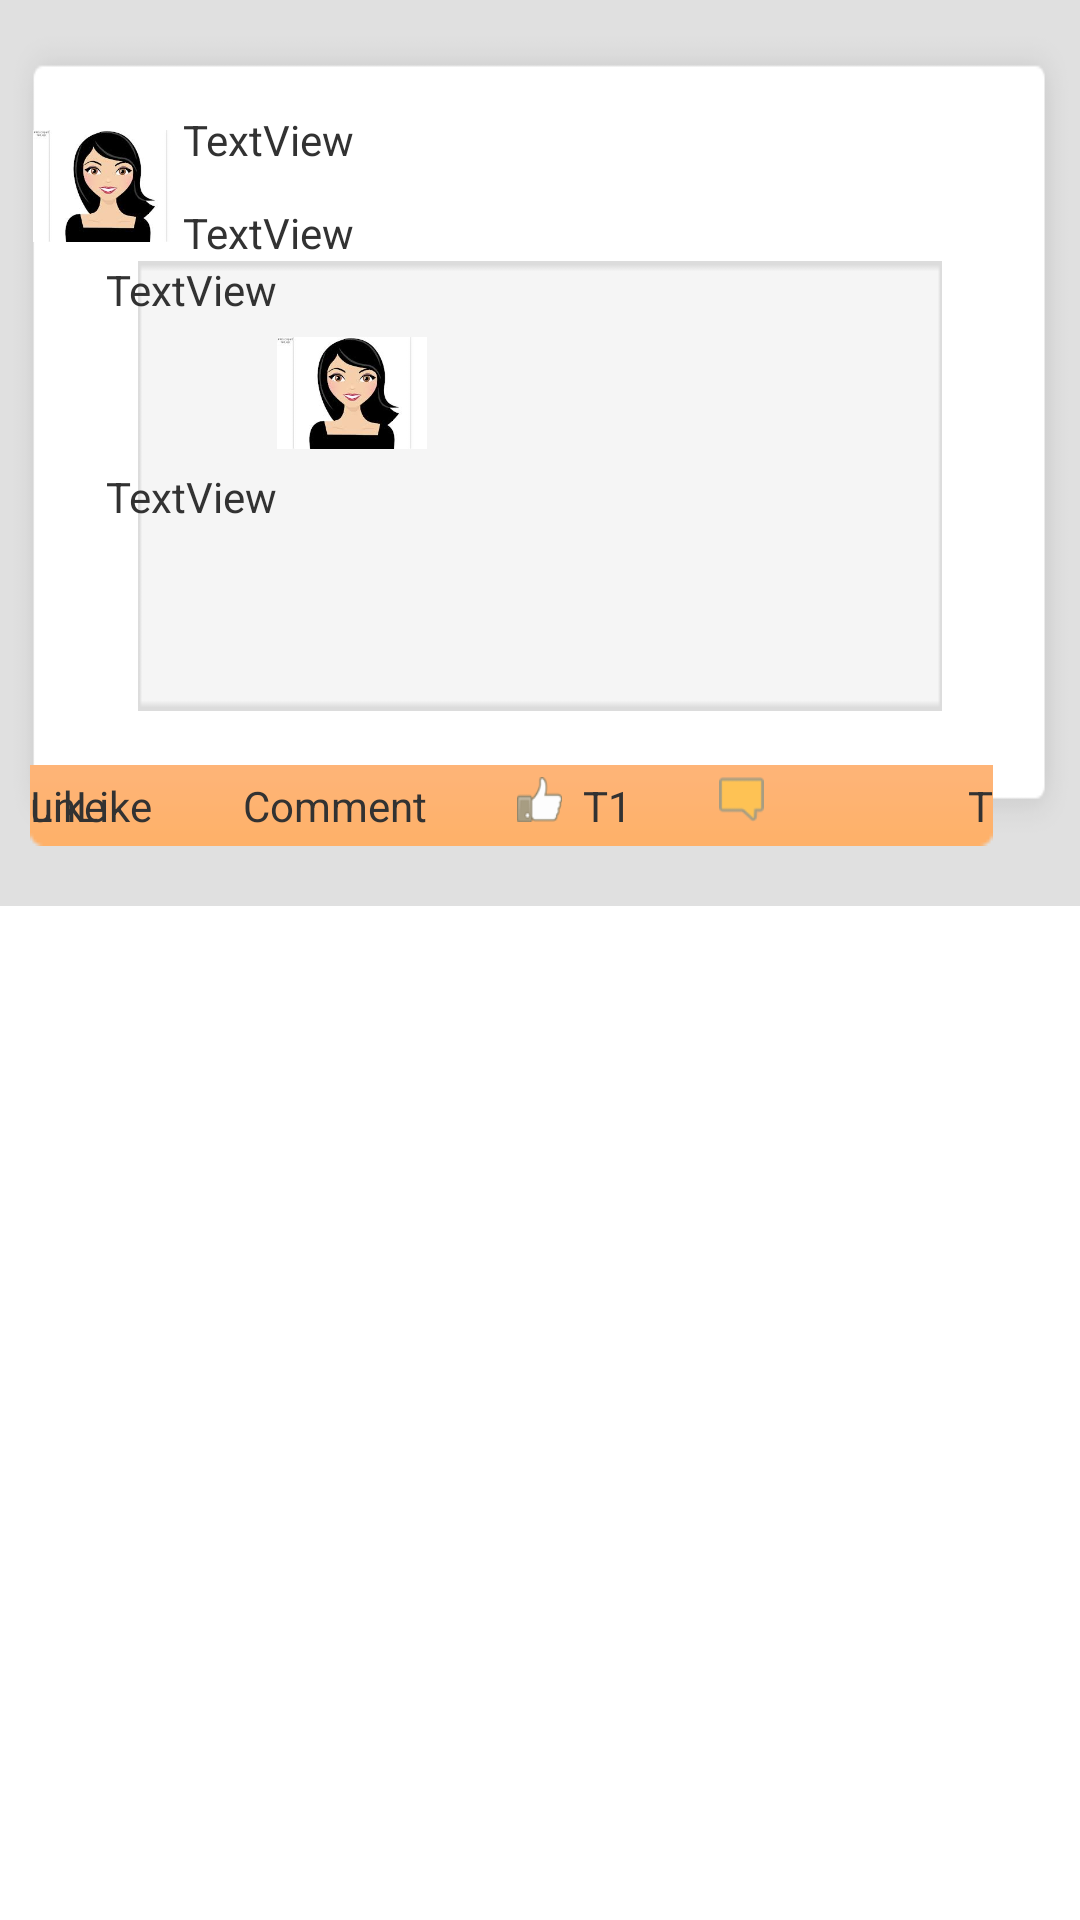

Point at icon controls on the screen. Image size 1080px x 1920px, points as (x,y).
comment: (741,799)
like: (539,799)
